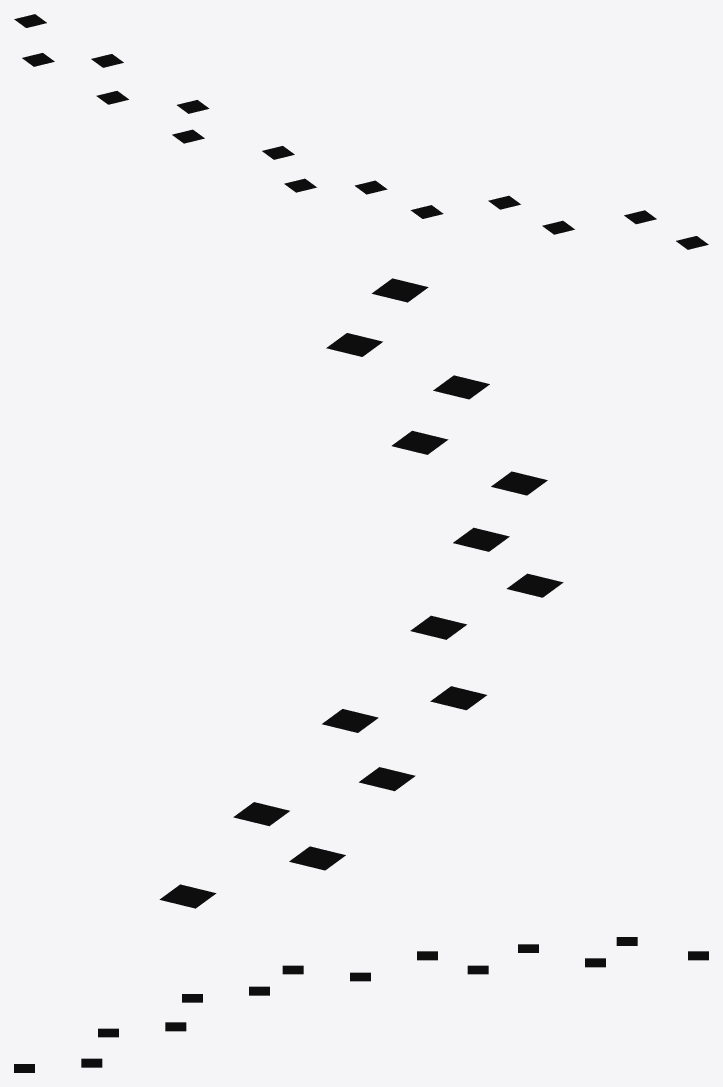
3 renders of one model, top to bottom at view 1: azimuth 30°, elevation 25°; view 2: azimuth 150°, elevation 25°; view 3: azimuth 270°, elevation 25°, orthographic. The views are drawn at different scales.
Visible parts, largest first — view 1: Joint_0_Object_0; view 2: Joint_0_Object_0; view 3: Joint_0_Object_0.
Boxes of the visible parts, x1,y1,x2,y2 form: Joint_0_Object_0: [14, 14, 708, 249]; Joint_0_Object_0: [159, 278, 563, 908]; Joint_0_Object_0: [14, 937, 708, 1072].
Size of the model in its own units: 1148 by 0 by 2482.
Materials: 1 (1 with a texture image).
